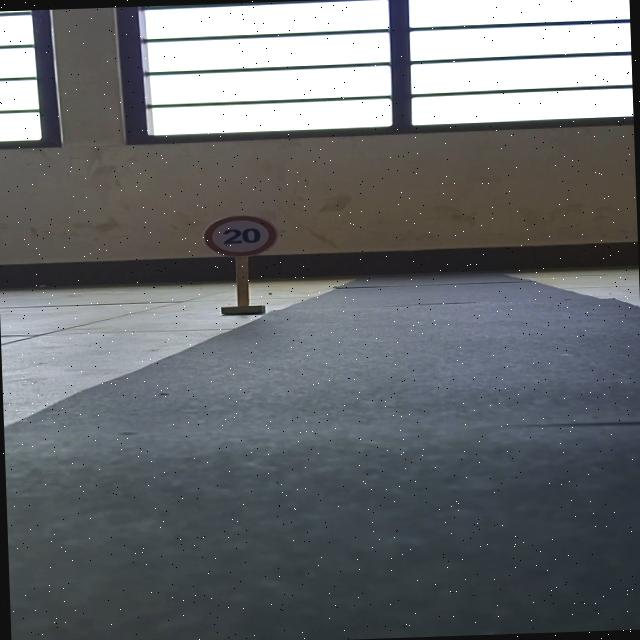Speed20: (192, 210, 281, 262)
